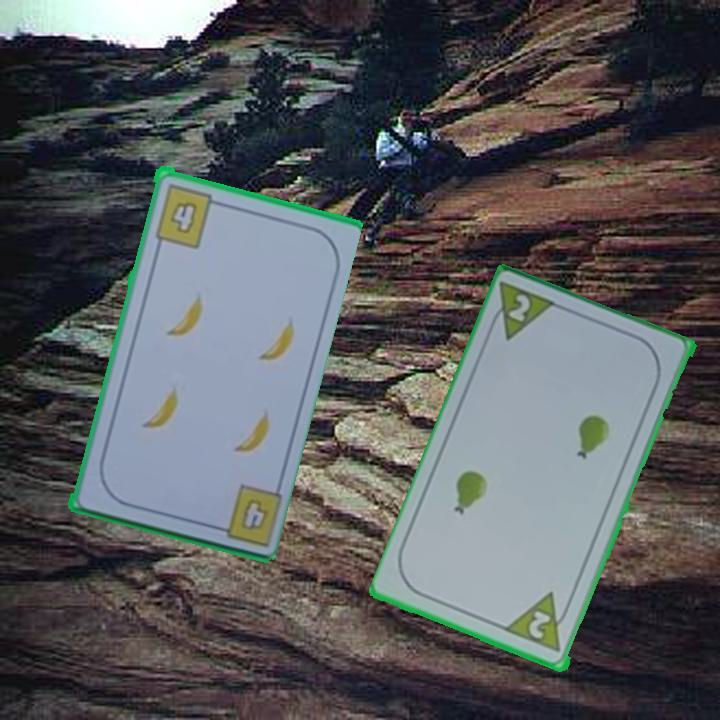2p: (525, 607, 554, 643), (505, 291, 534, 326)
4b: (206, 479, 283, 549), (150, 179, 223, 250)
